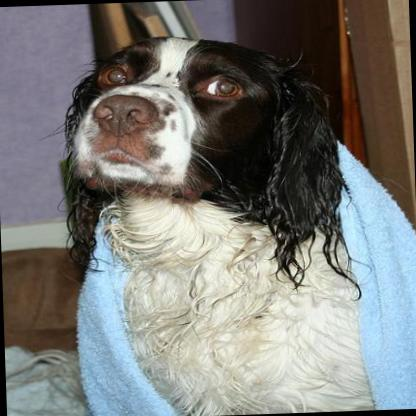English_springer: (54, 23, 416, 416)
